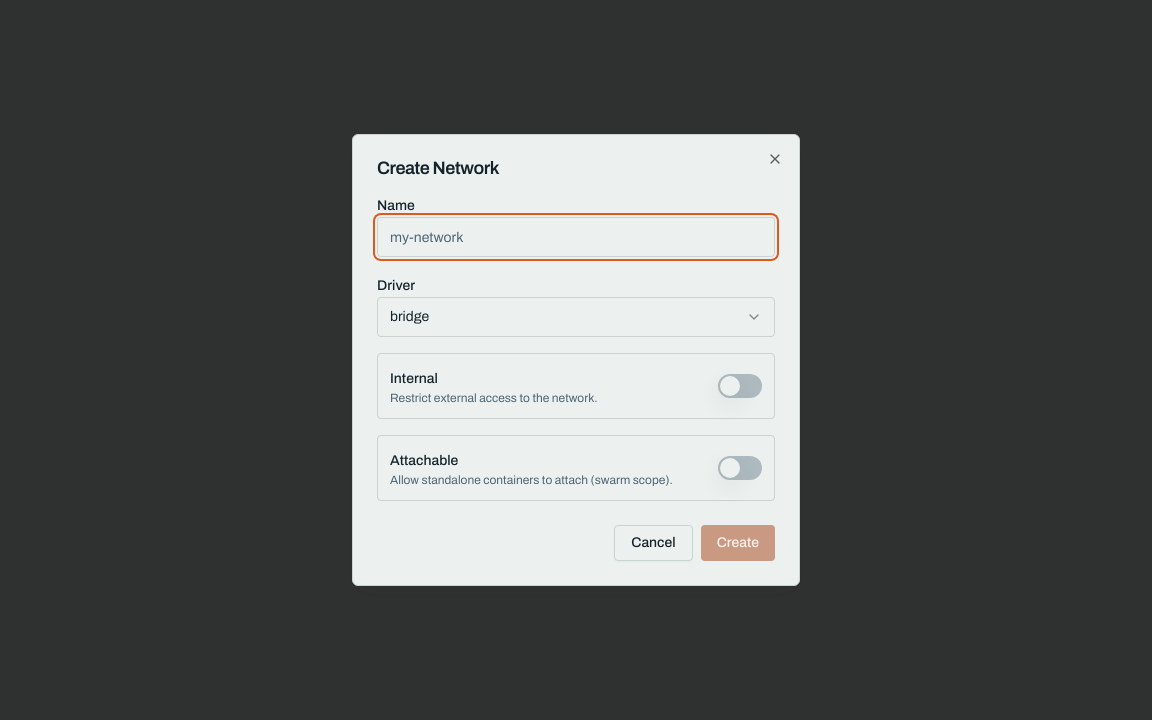
Test: CreateNetworkDialog — name validation › requires a name once the field has been touched and emptied
Step 1. Type "x" into the field labelled "Name" → coordinates (576, 237), box left=377, top=217, right=775, bottom=257
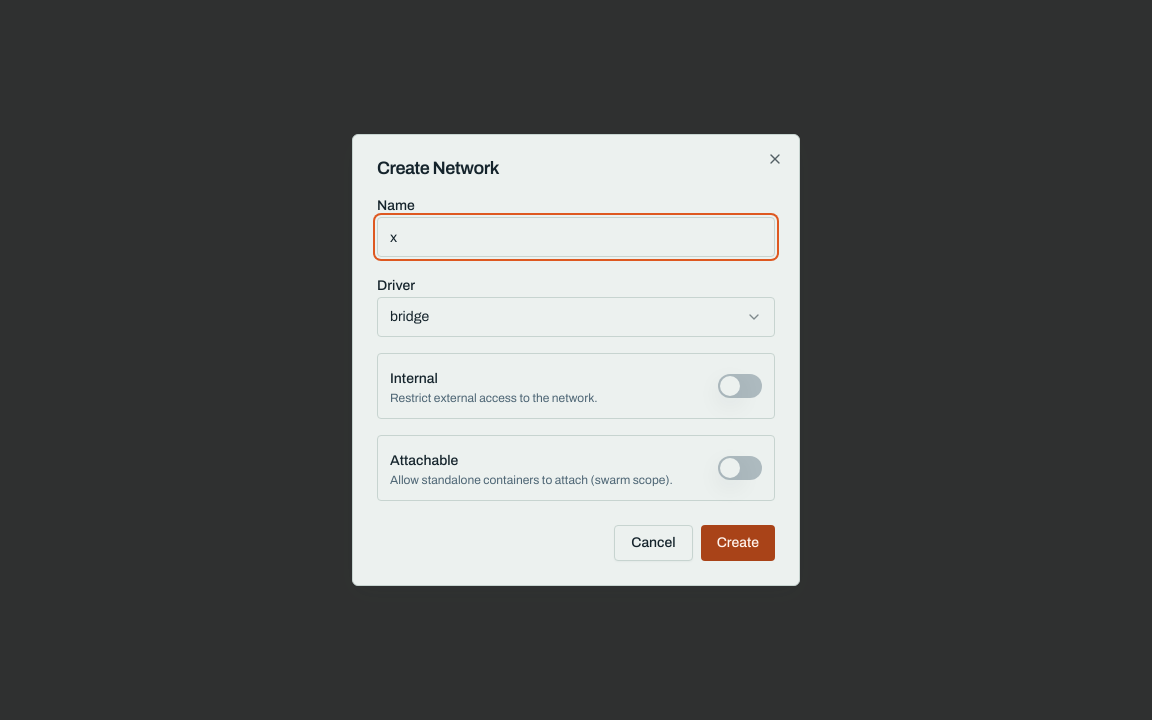
Step 2. Clear the field labelled "Name" → coordinates (576, 237), box left=377, top=217, right=775, bottom=257
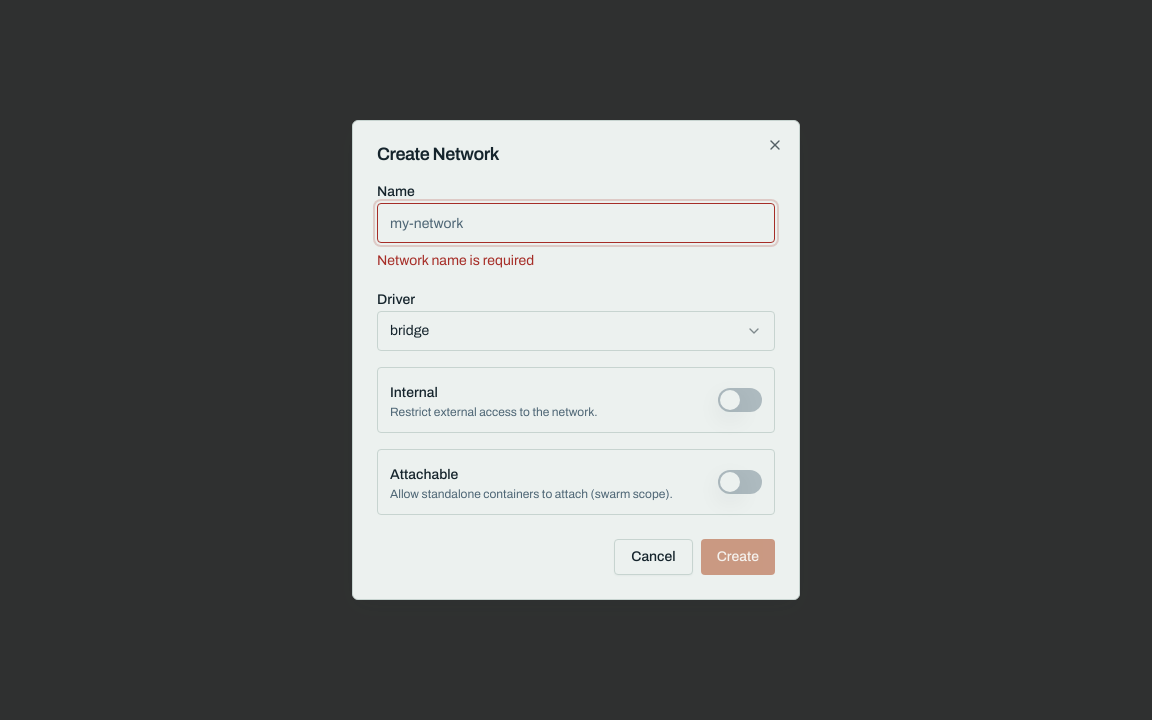
expect the text "Network name is required" is shown: met, box left=377, top=253, right=534, bottom=268
